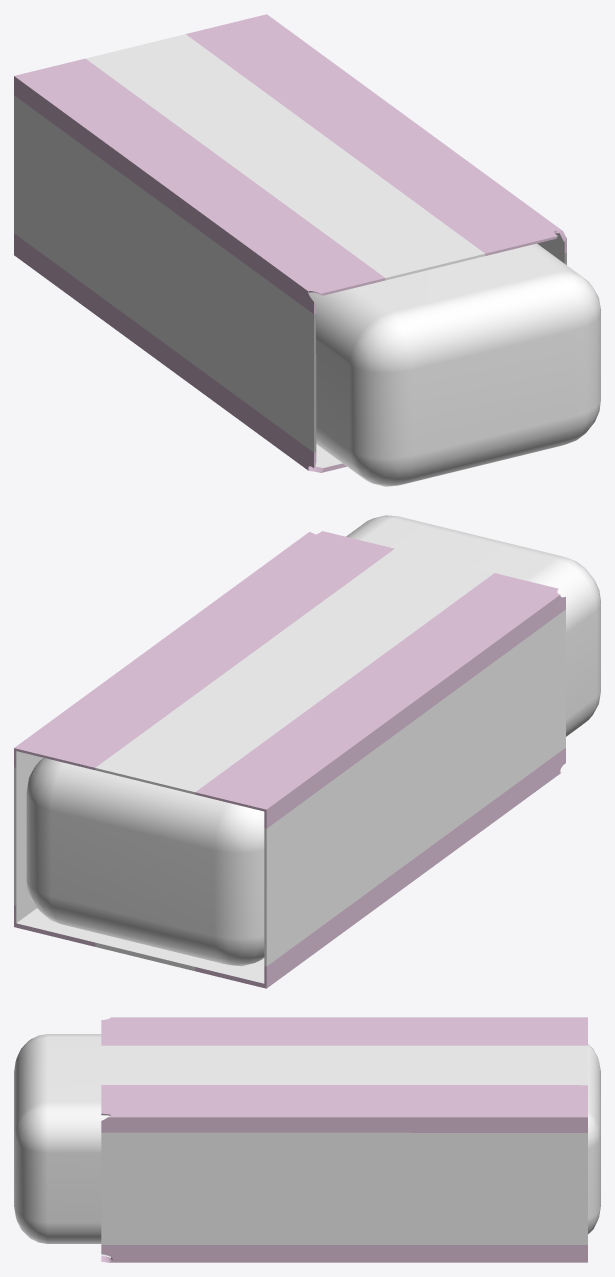
File: kesigomu.fbx
3 renders of one model, top to bottom at view 1: azimuth 30°, elevation 25°; view 2: azimuth 150°, elevation 25°; view 3: azimuth 270°, elevation 25°, orthographic. The views are drawn at different scales.
Parts seen in each view (by area): view 1: polySurface1, pCube1; view 2: polySurface1, pCube1; view 3: polySurface1, pCube1.
Part boxes in pixels (bbox=[...]): polySurface1: bbox=[14, 14, 566, 472]; pCube1: bbox=[309, 243, 600, 486]; polySurface1: bbox=[14, 531, 565, 988]; pCube1: bbox=[26, 515, 600, 966]; polySurface1: bbox=[101, 1017, 587, 1262]; pCube1: bbox=[14, 1034, 600, 1243].
Size of the model in its own units: 1.46 by 0.9917 by 3.63.
